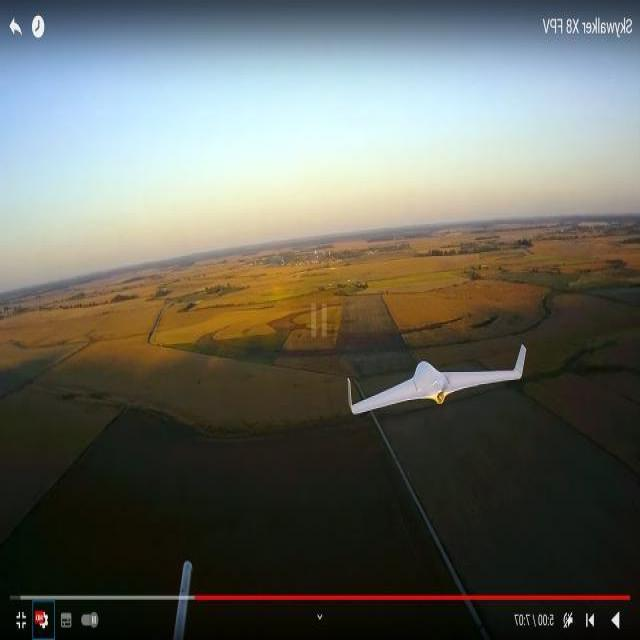iha: (341, 376, 531, 388)
